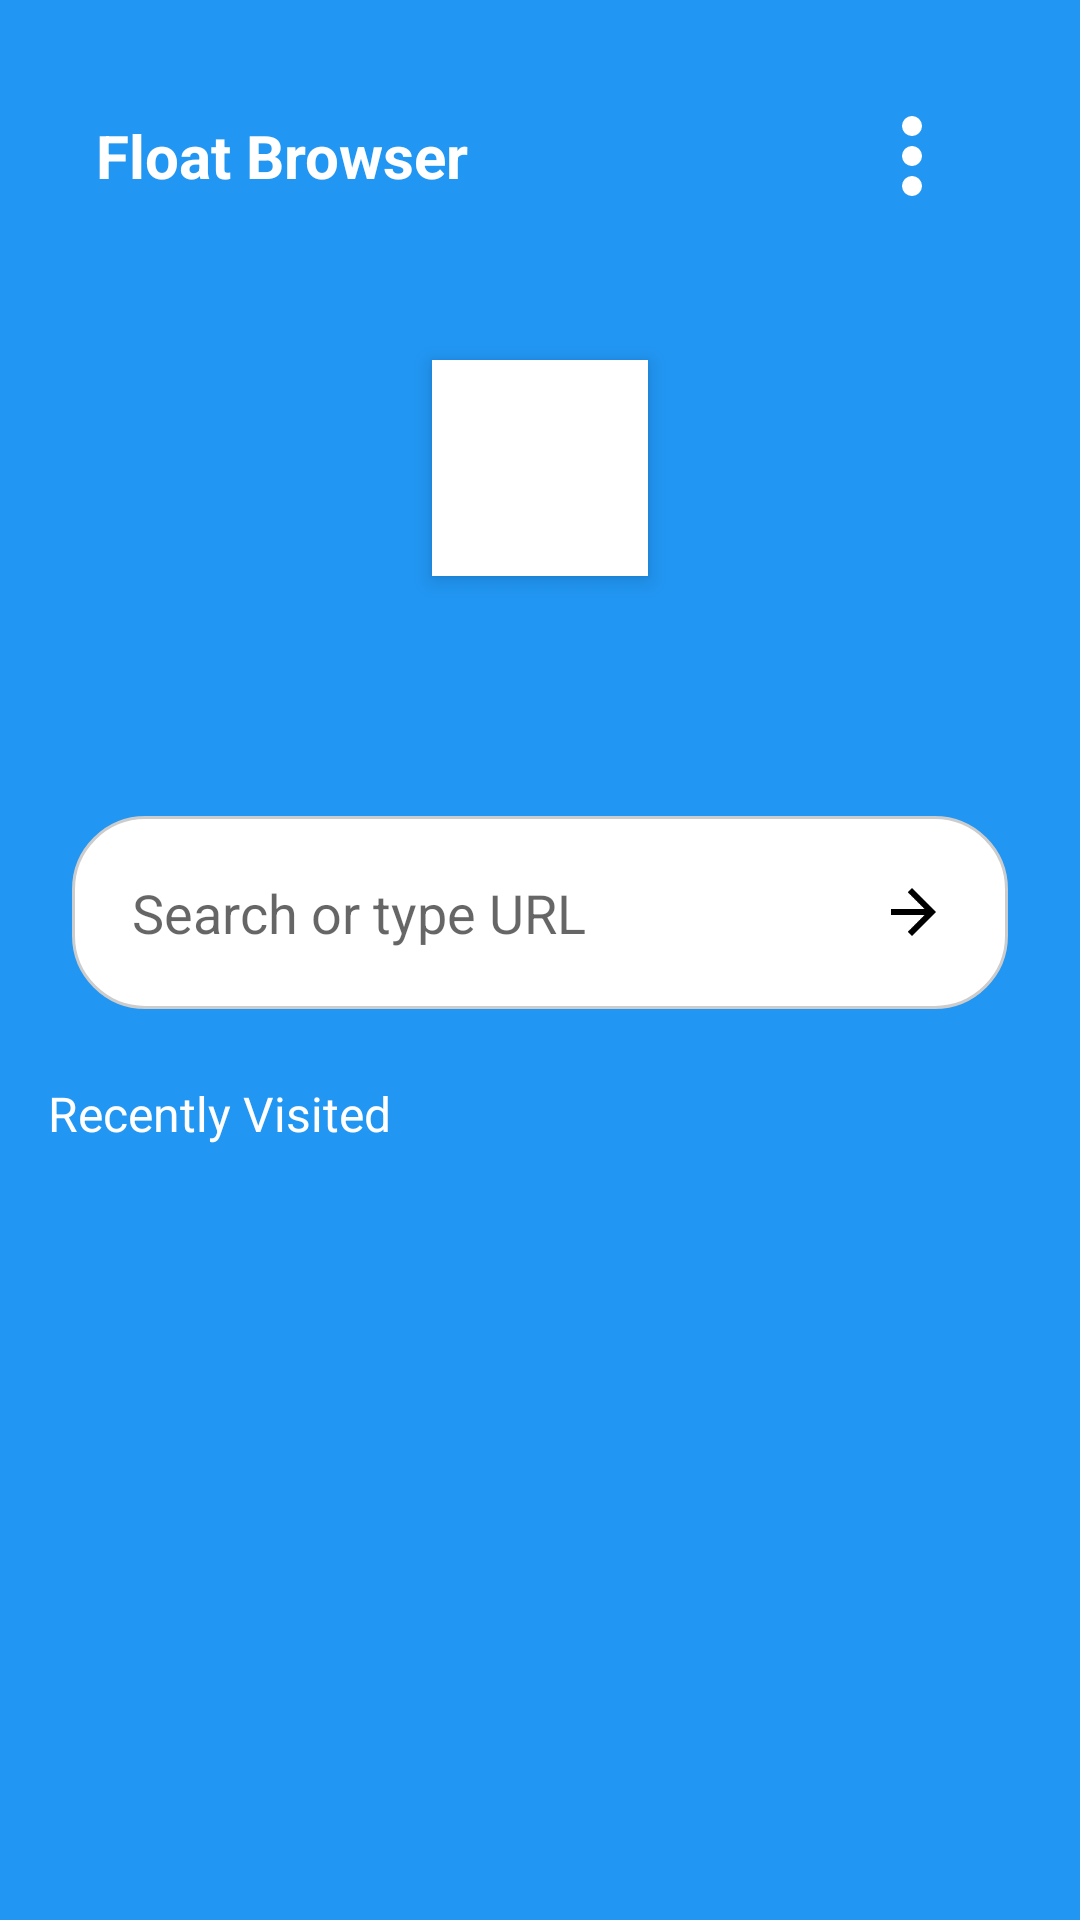

Icons on this 1080×1920 Android screen, each with its box as region(x1, y1, x2, y2):
Go: region(891, 888, 936, 936)
More: region(902, 116, 922, 196)
